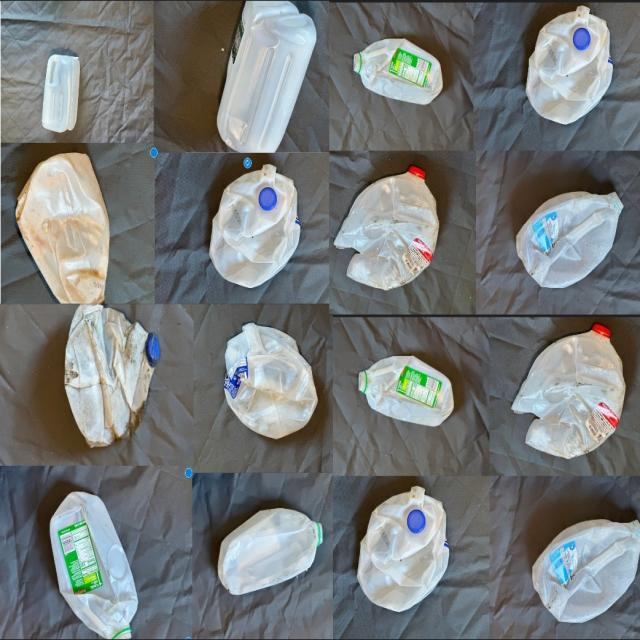milk-jug: (509, 321, 631, 459), (8, 153, 122, 296), (212, 0, 314, 148), (332, 167, 441, 297), (45, 490, 137, 640), (522, 514, 640, 630), (69, 300, 159, 440), (514, 184, 626, 294), (358, 484, 453, 612), (520, 5, 614, 133), (210, 162, 302, 290), (216, 324, 320, 437), (217, 503, 324, 588), (353, 349, 456, 431), (353, 35, 448, 108), (46, 41, 82, 134)
